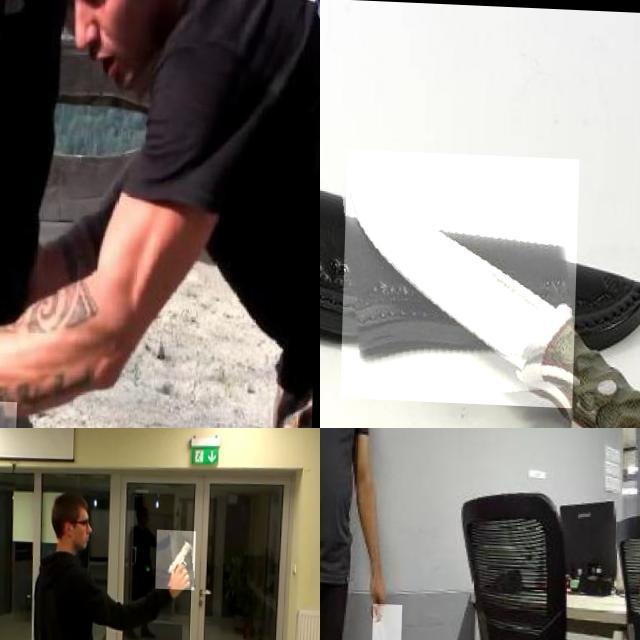-: (343, 147, 580, 404), (374, 601, 405, 640)
gun-knife-thesis - v11 Yolov5 augmented: (158, 526, 198, 586)
